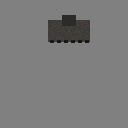armoured_vehicle: (48, 20, 90, 42)
